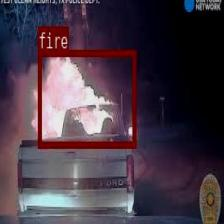fire: (38, 49, 135, 146)
